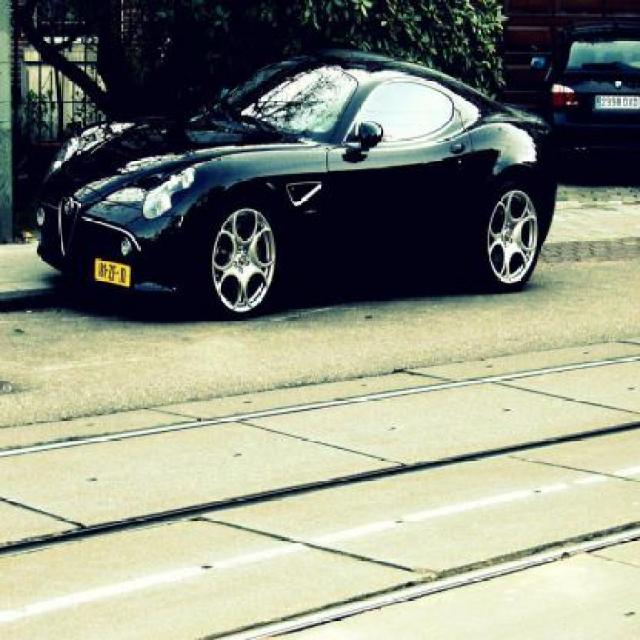License-Plates: (91, 253, 132, 289)
